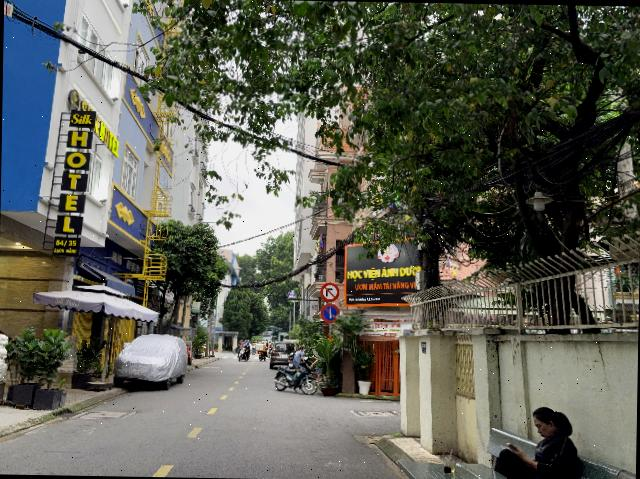cam-do-xe-ngay-le: (320, 302, 340, 324)
cam-re-phai: (320, 281, 340, 302)
